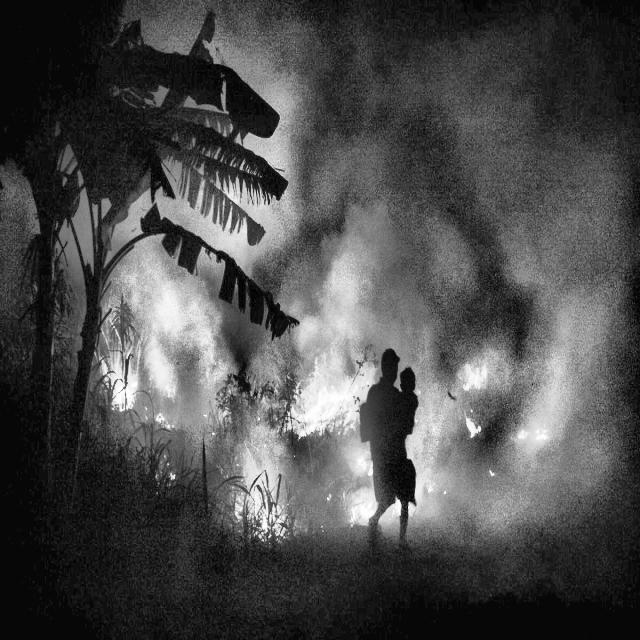fire: (452, 348, 588, 525), (80, 270, 182, 474), (253, 372, 392, 505), (331, 476, 431, 606), (237, 455, 290, 581)
